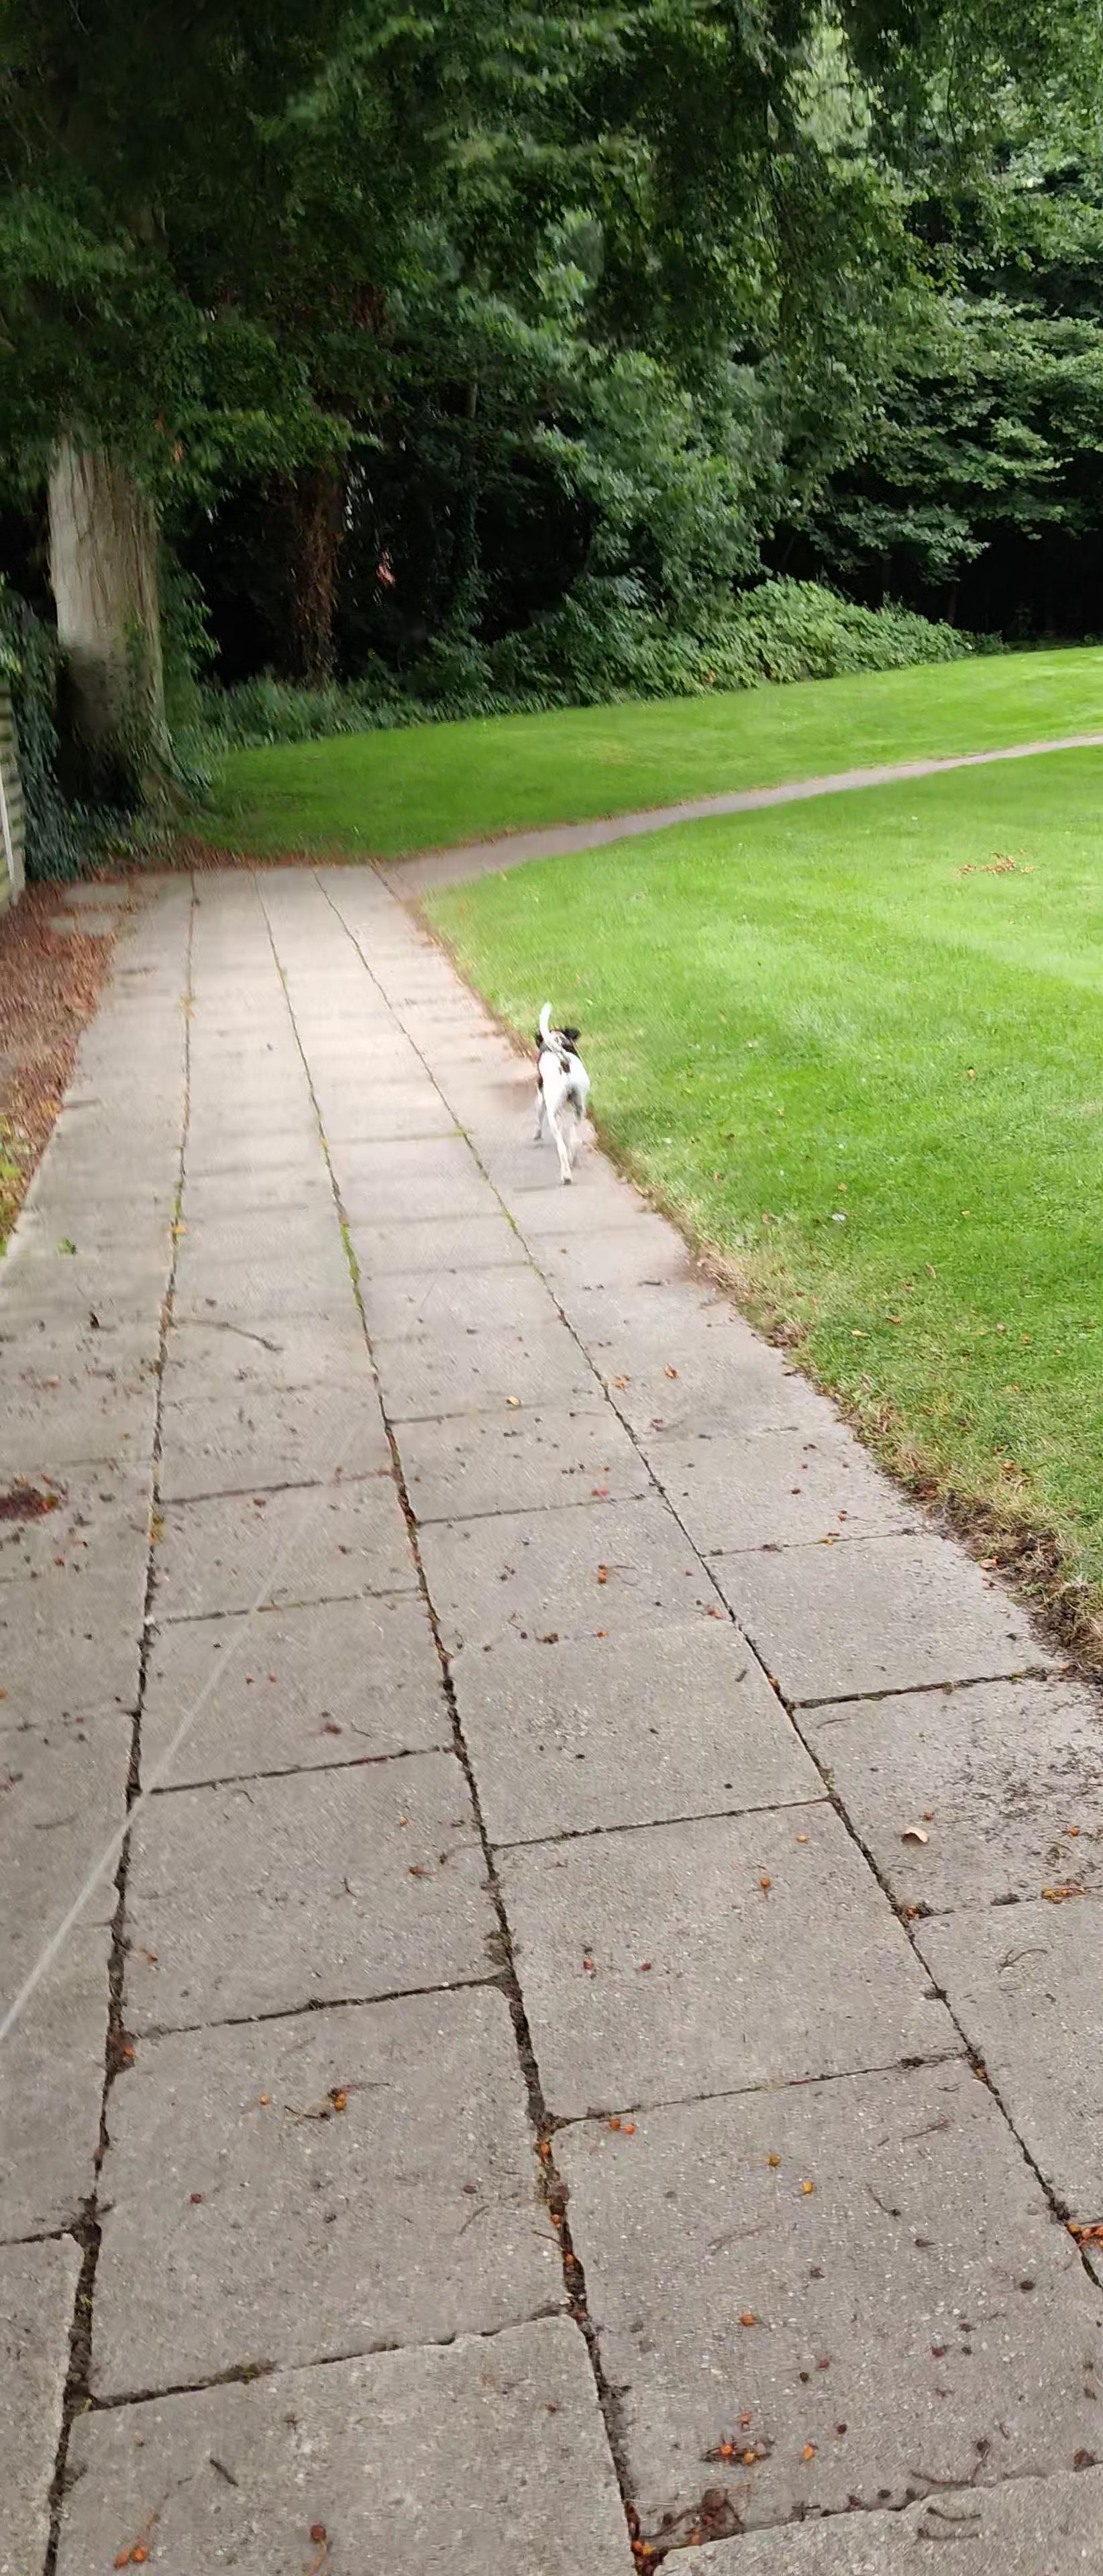Dog: (521, 996, 602, 1193)
